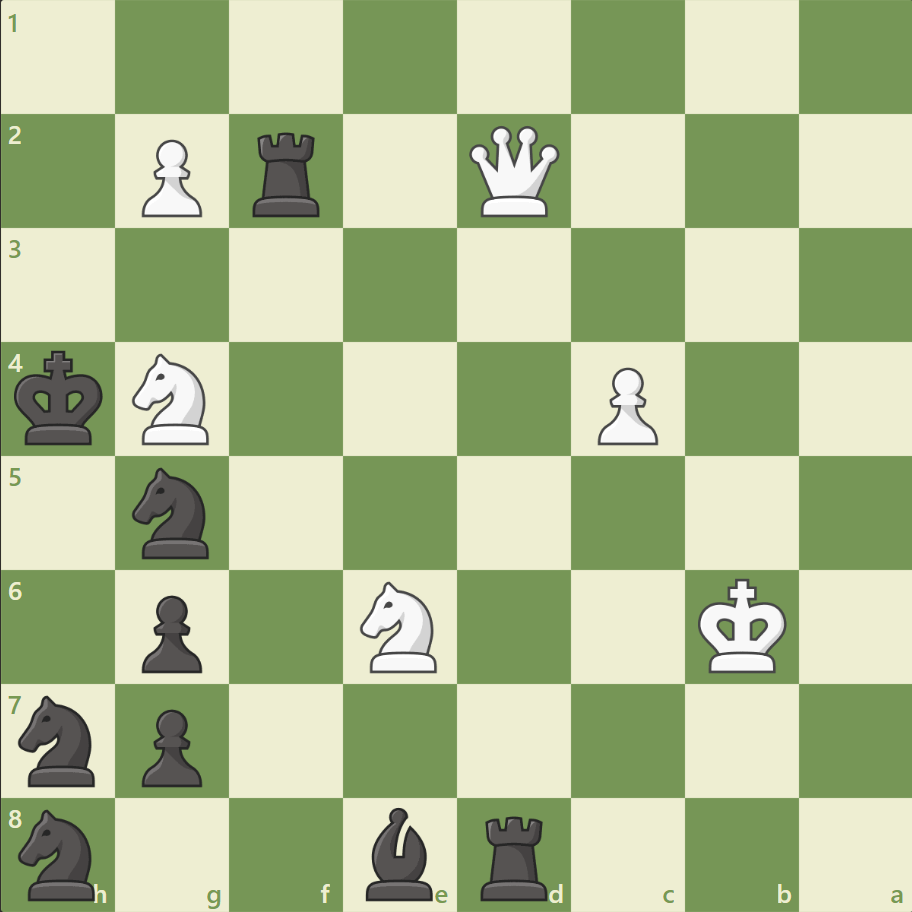K: (692, 571, 792, 679)
N: (351, 575, 449, 677), (124, 348, 222, 450)
P: (133, 132, 208, 223), (588, 359, 662, 450)
Q: (464, 122, 563, 222)
b: (358, 801, 442, 904)
k: (11, 344, 111, 452)
n: (124, 461, 222, 564), (11, 688, 108, 791), (11, 802, 108, 904)
p: (133, 700, 208, 791), (133, 586, 208, 677)
r: (473, 806, 556, 904), (246, 125, 329, 222)
